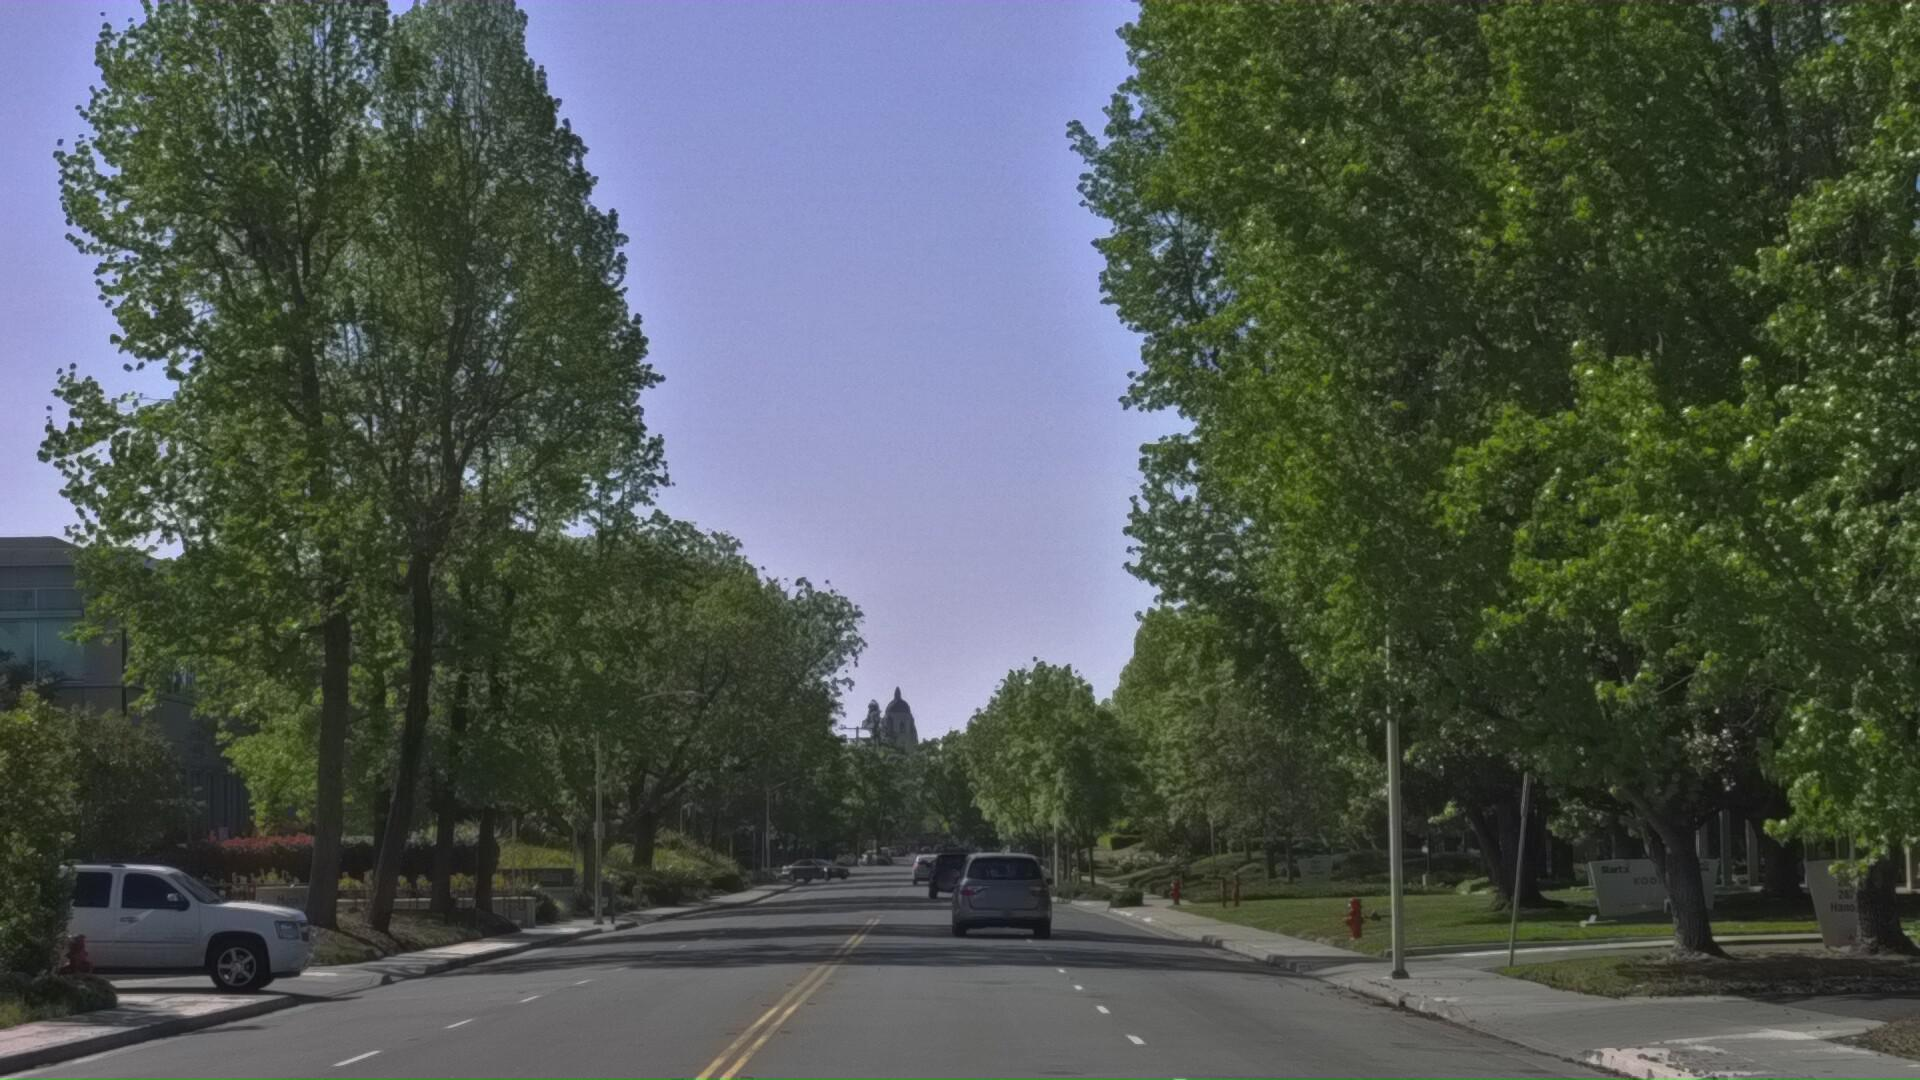car: (0, 956, 342, 1080), (938, 963, 1044, 1054)
